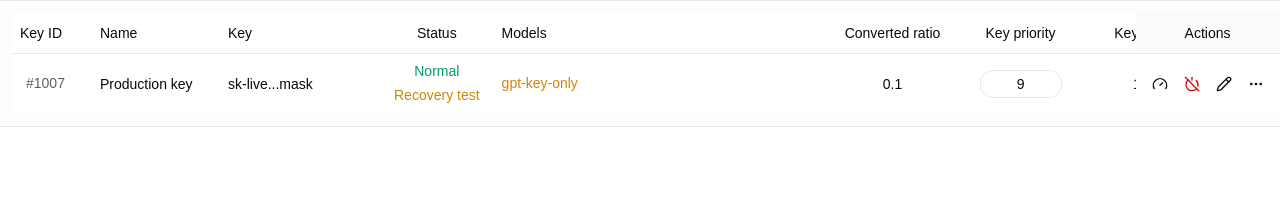
Scenario: 密钥级更多菜单不显示渠道级复制和账号池入口
Click the button named "Open menu" at (1256, 84), box [1242, 70, 1270, 98]
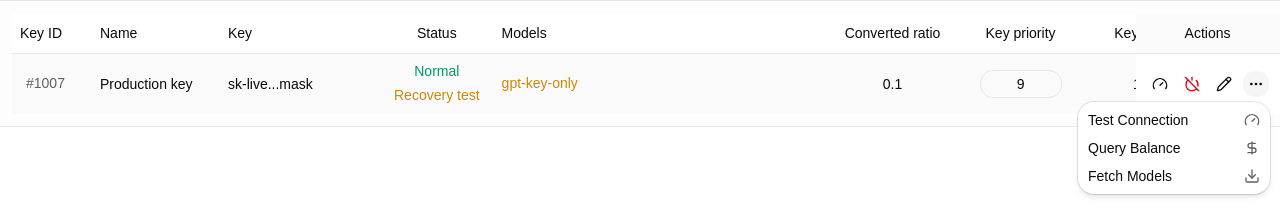
Result: the menu item "Test Connection" is shown at [1088, 112, 1260, 128]
Result: the menu item "Query Balance" is shown at [1088, 140, 1260, 156]
Result: the menu item "Fetch Models" is shown at [1088, 168, 1260, 184]
